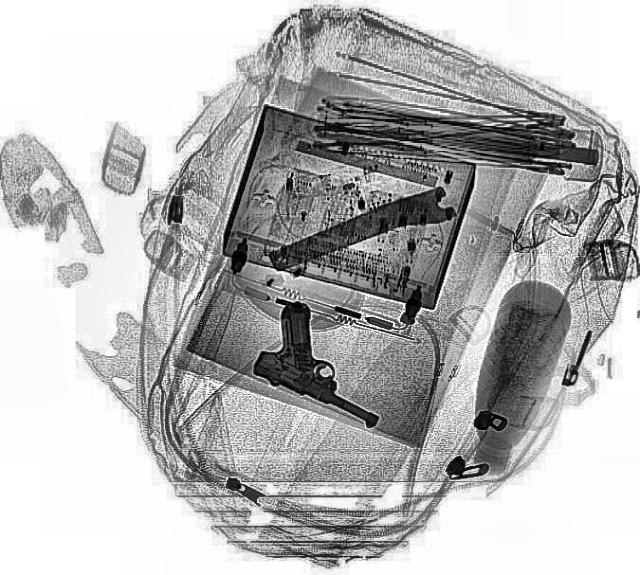Gun: (236, 295, 420, 431)
